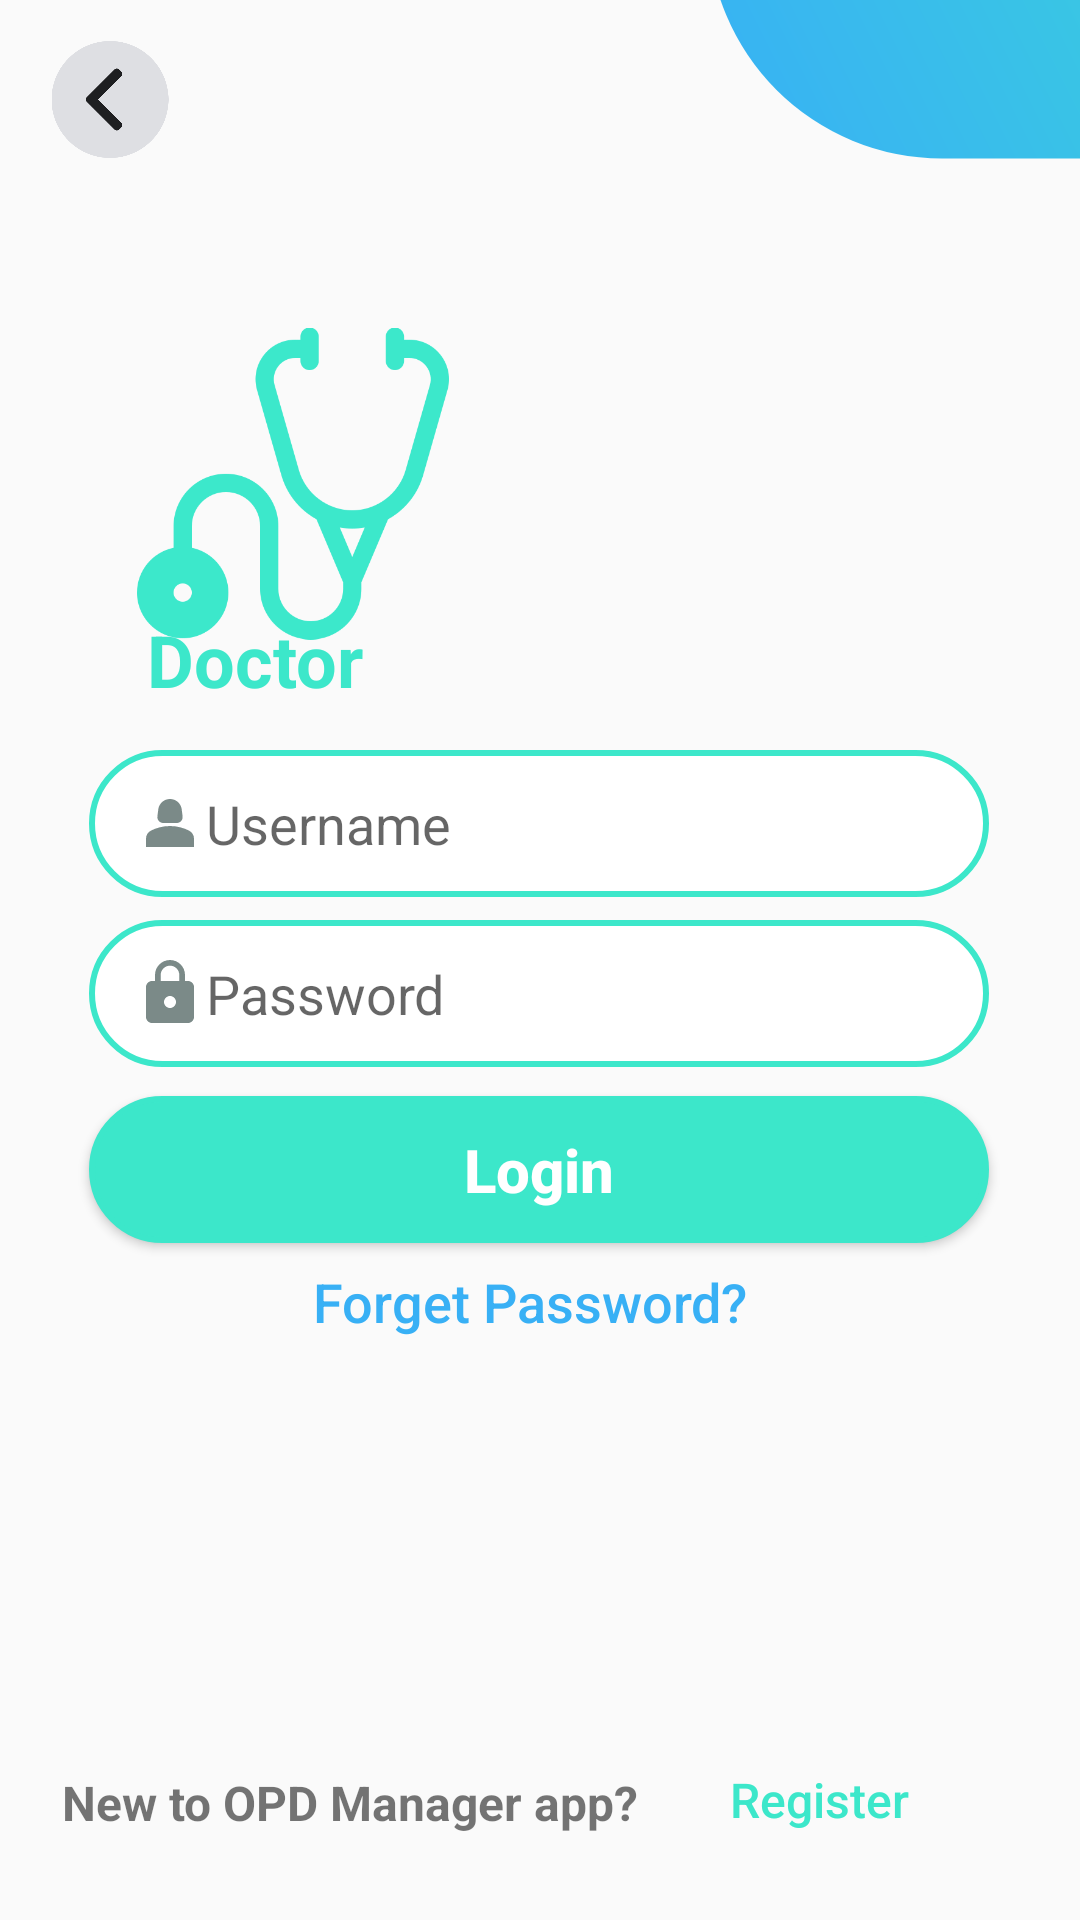

Point at icon controls on the screen. Image size 1080×1920, points as point (x, y).
stethoscope: point (293, 489)
